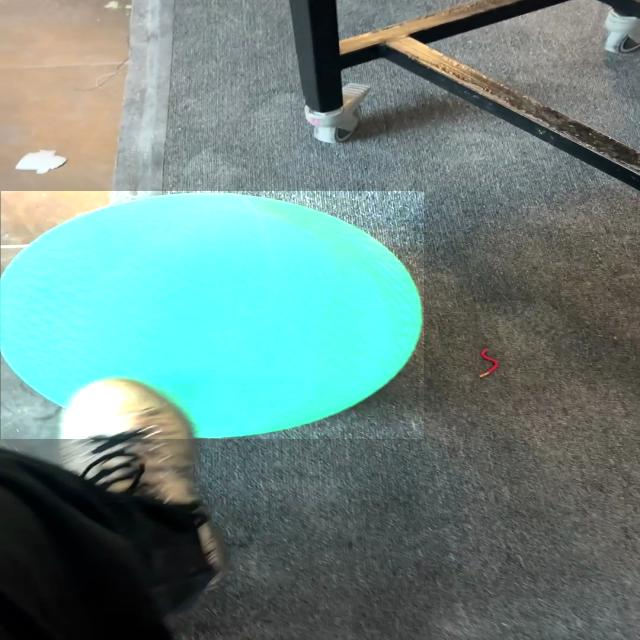Algae: (1, 191, 424, 439)
